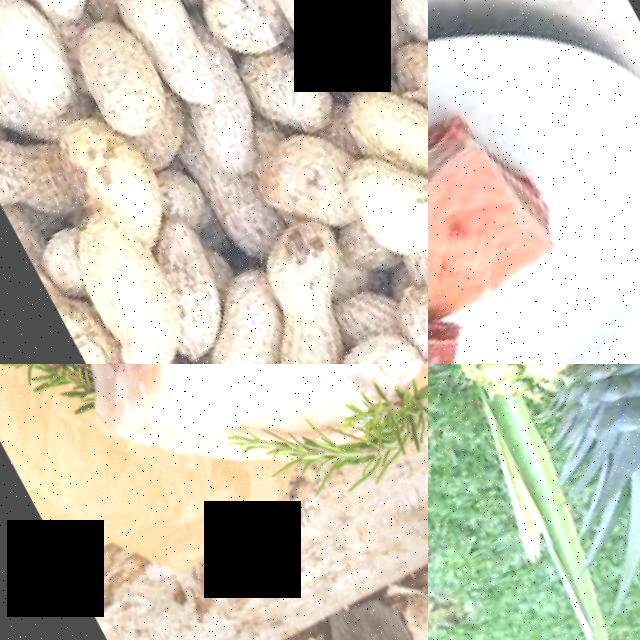peanuts: (48, 194, 204, 364), (332, 109, 428, 320), (59, 7, 180, 148), (232, 0, 392, 104), (107, 0, 228, 115), (248, 207, 364, 326), (0, 0, 91, 136), (241, 317, 428, 364)
pineapple: (428, 364, 640, 455)
pork belly: (50, 364, 428, 519), (428, 98, 572, 334)
